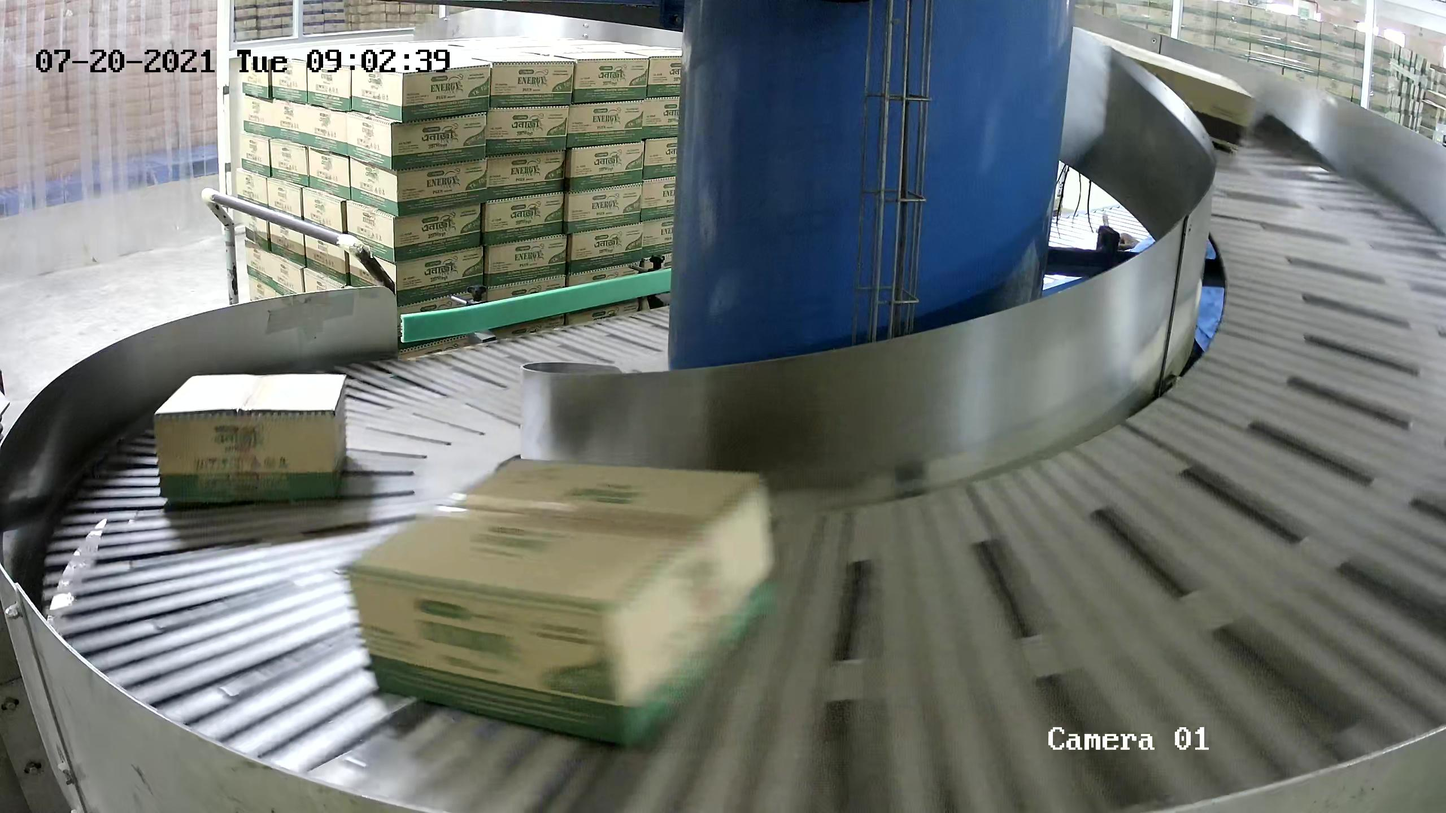Box: (340, 456, 782, 749), (1042, 23, 1256, 152), (153, 373, 348, 507)
